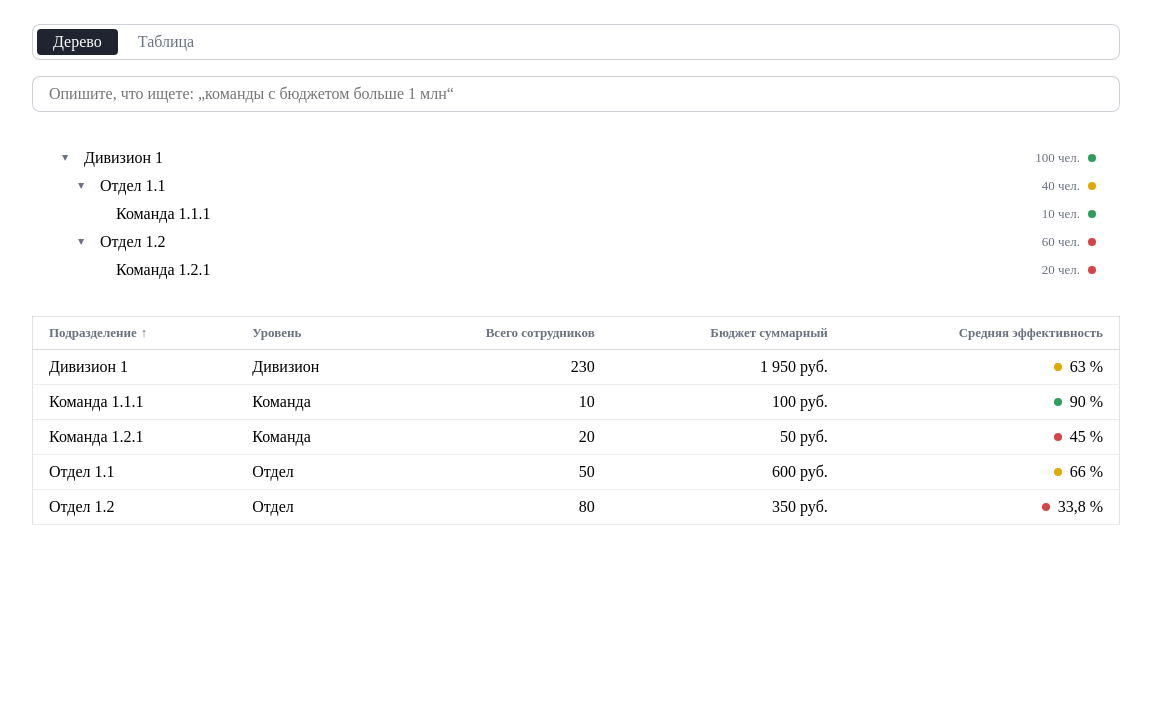
Test: OrgDashboard AI-поиск › очистка ввода полностью сбрасывает и фильтр, и приглушение дерева
Type "эффективность выше 55" into the search field named "Фильтр по названию".
click(576, 94); type("эффективность выше 55")  # box [32,76,1120,112]
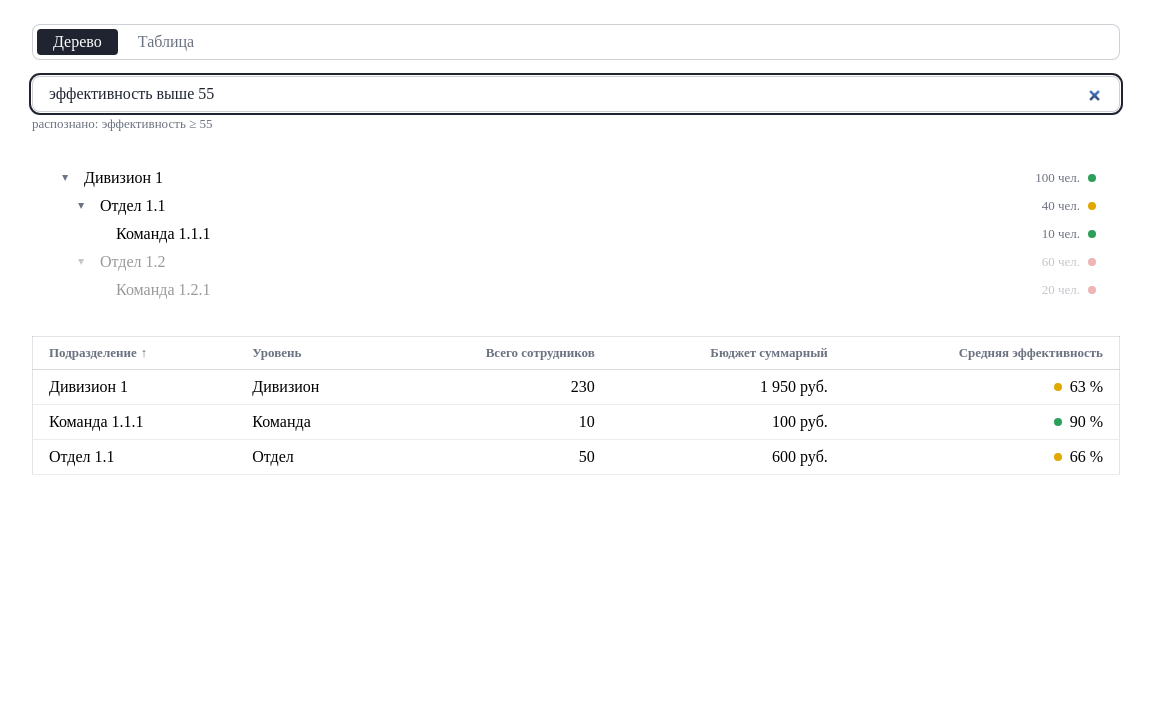
Clear the search field named "Фильтр по названию" at (576, 94), box [32,76,1120,112]
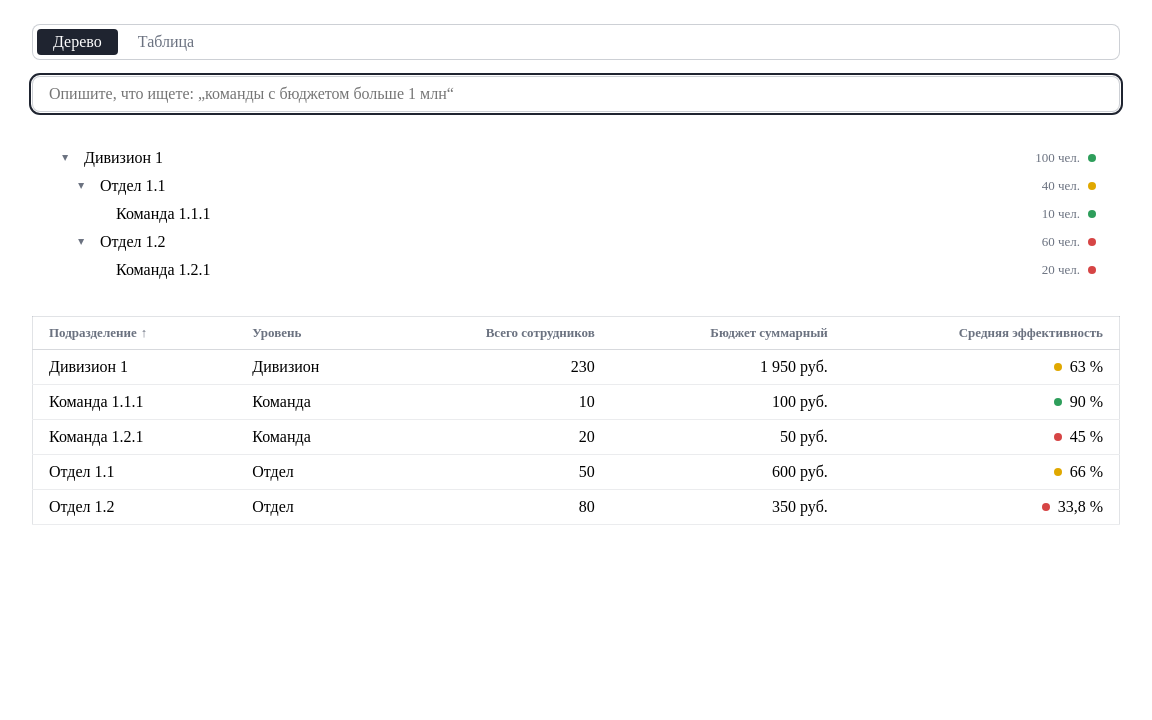
Check: the text "распознано:" is gone
